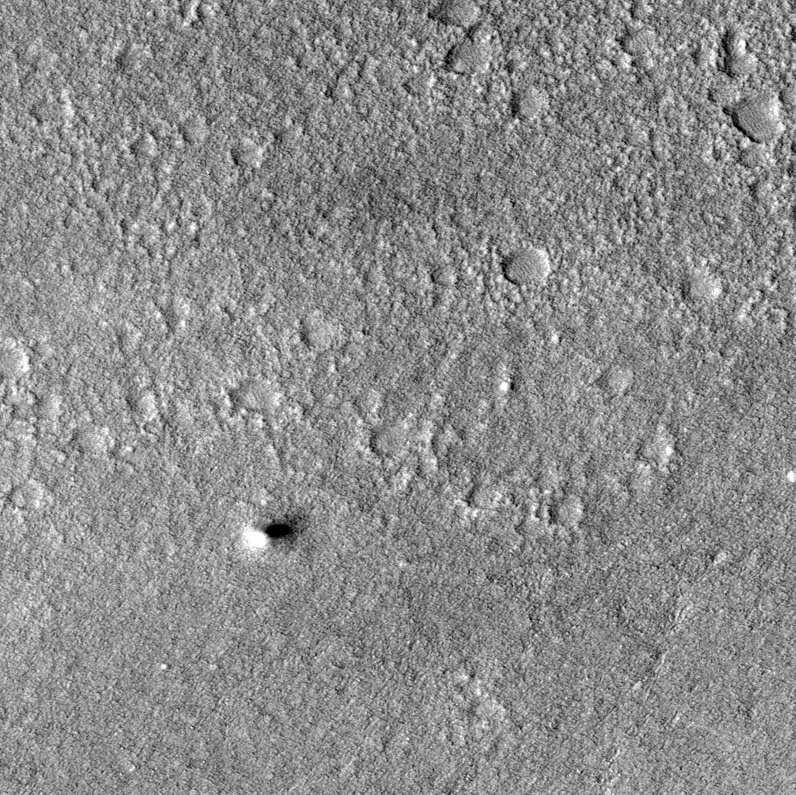dust_devil: (238, 512, 312, 554)
